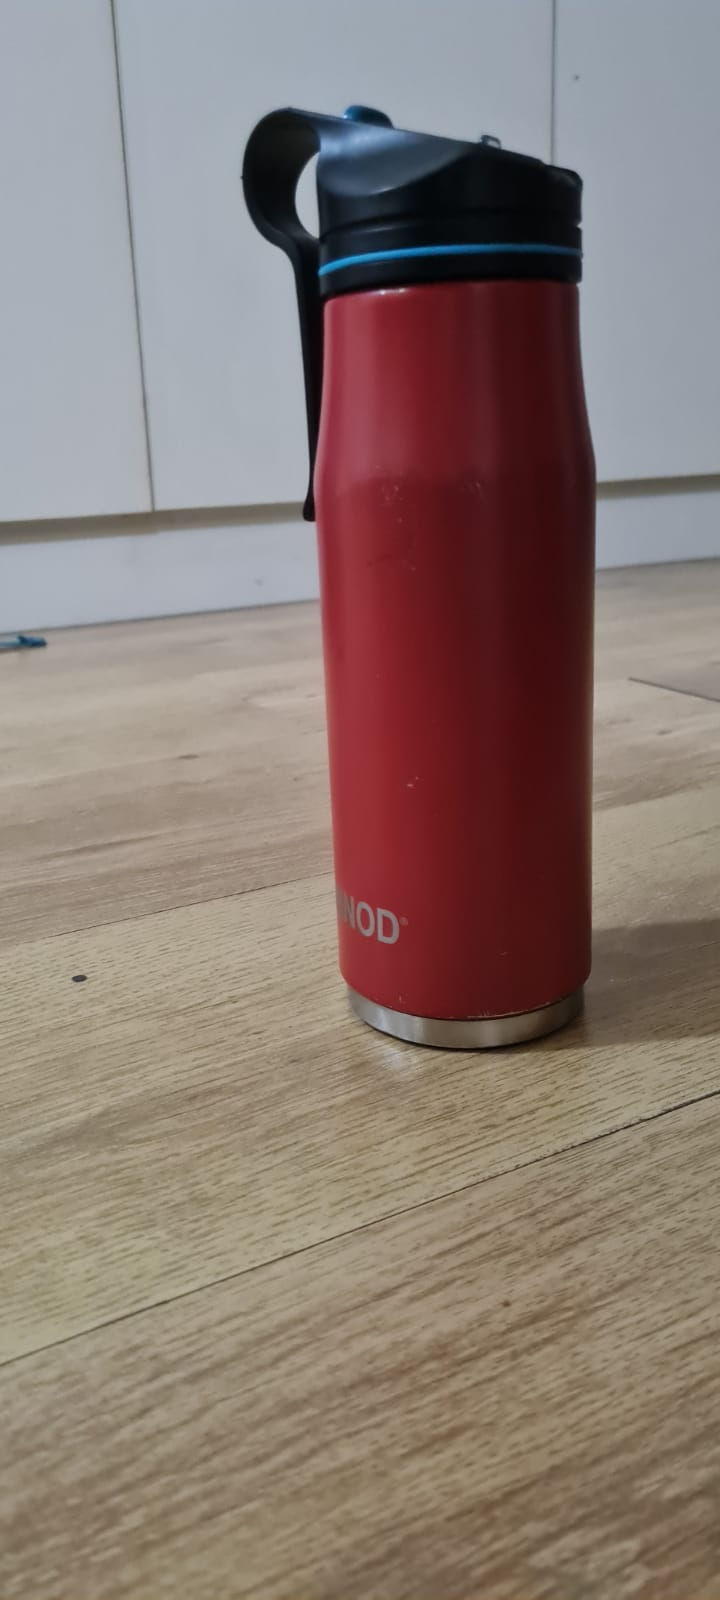bottle: (236, 94, 617, 1070)
